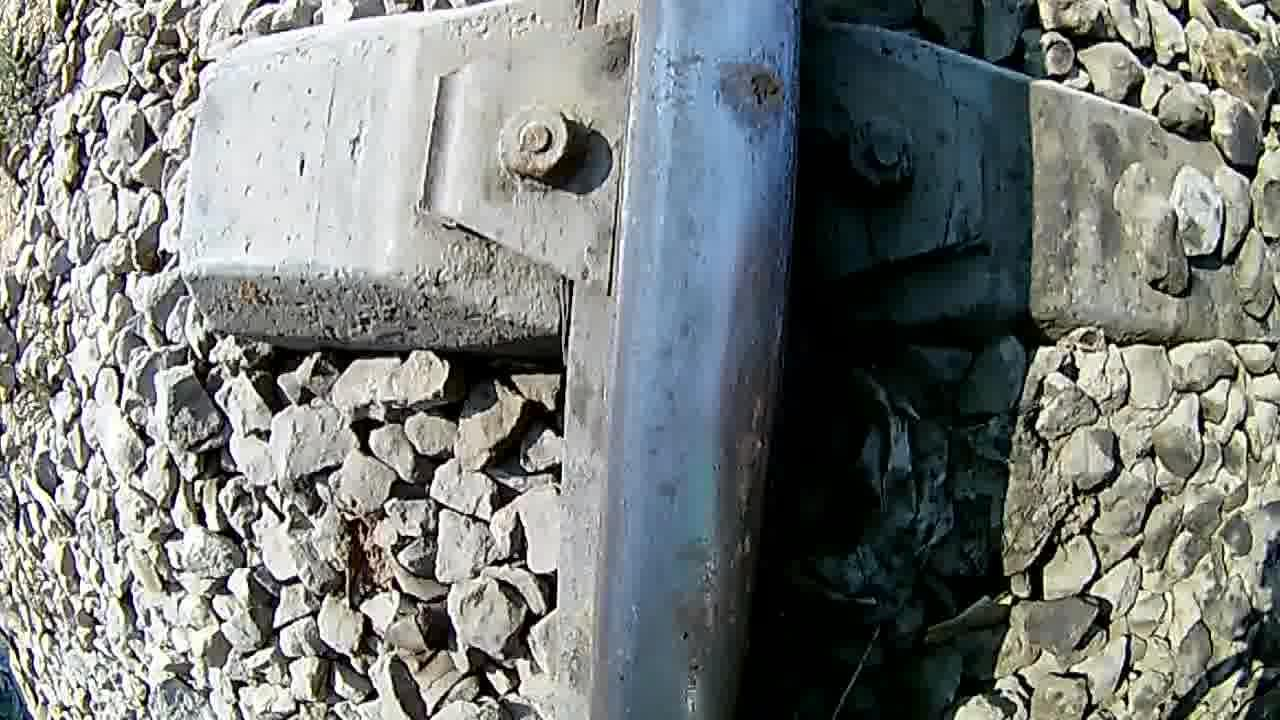crack: (614, 0, 798, 720)
